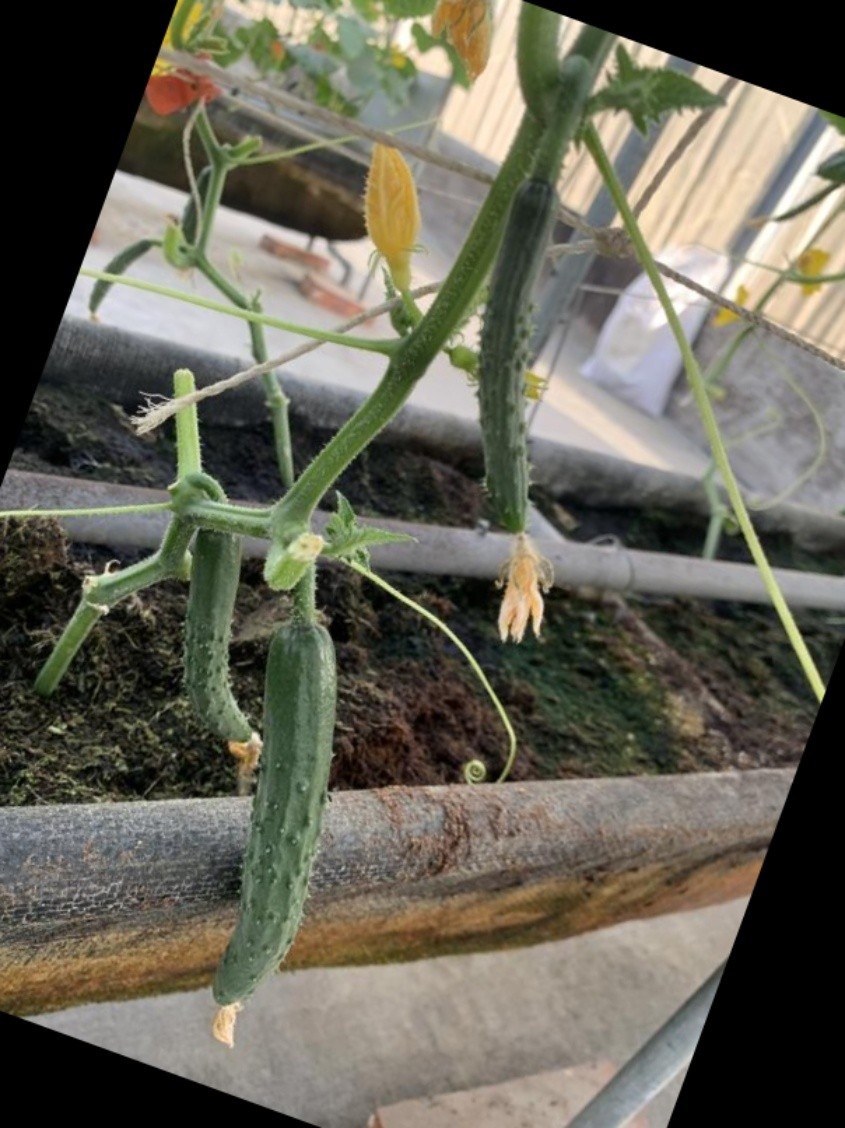growth: (438, 169, 577, 662)
mature: (208, 615, 345, 1010)
